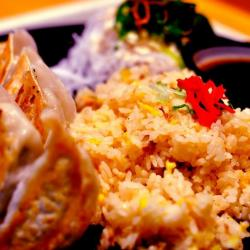rice: (93, 96, 250, 249)
